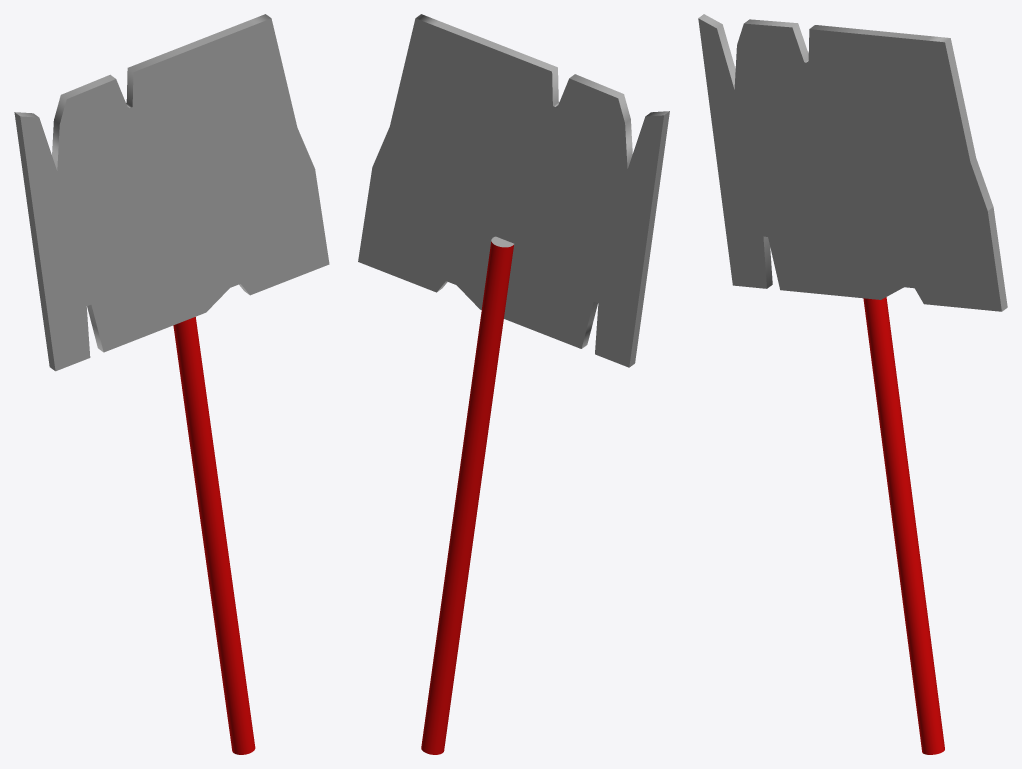
The model's file is ShootSign.fbx.
3 renders of one model, left to right at view 1: azimuth 30°, elevation 25°; view 2: azimuth 150°, elevation 25°; view 3: azimuth 330°, elevation 25°, orthographic.
Visible parts, largest first — view 1: pCube4; view 2: pCube4; view 3: pCube4.
Part boxes in pixels (x1,y1,x2,y2): pCube4: (14,14,329,754); pCube4: (358,14,669,754); pCube4: (698,14,1007,754).
Size of the model in its own units: 30.24 by 68.53 by 2.38.
